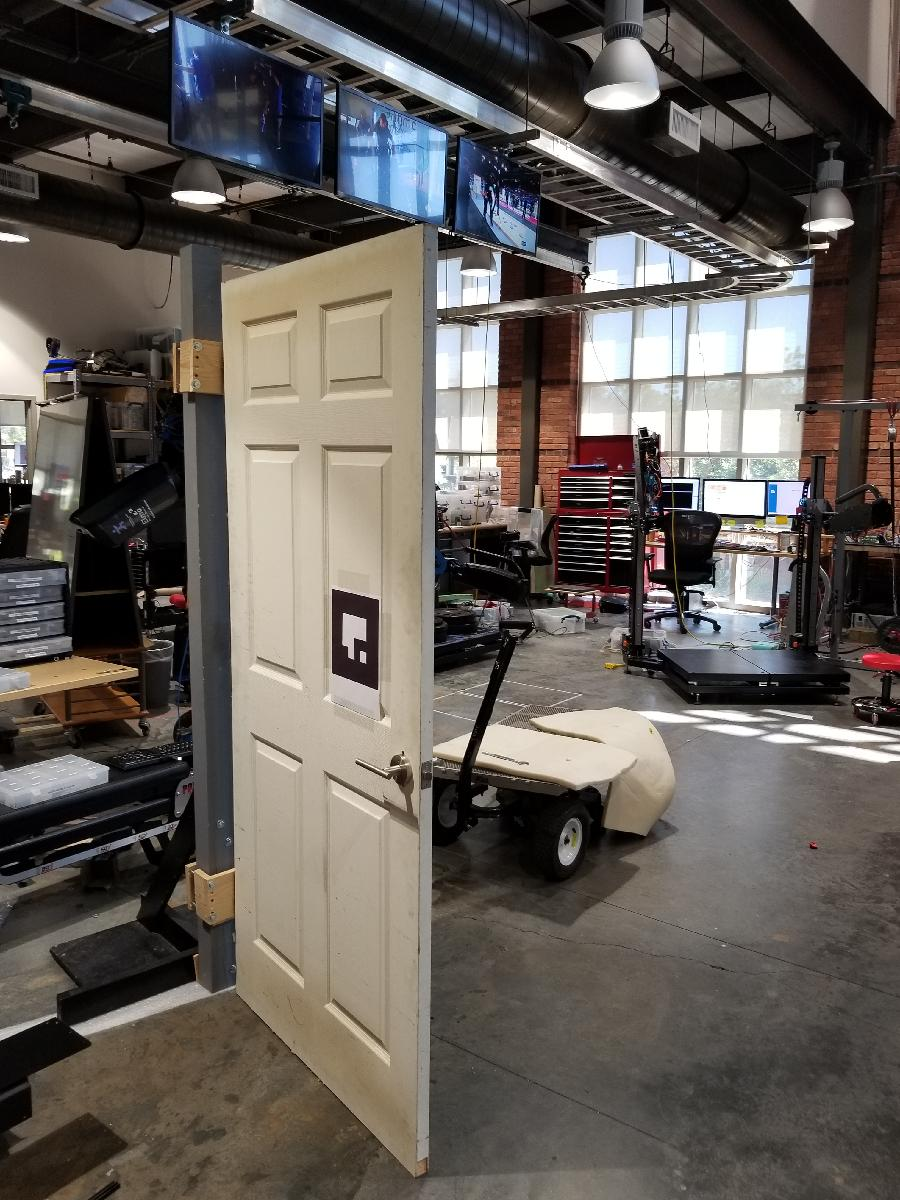door: (216, 221, 441, 1181)
doorHandle: (350, 746, 423, 803)
